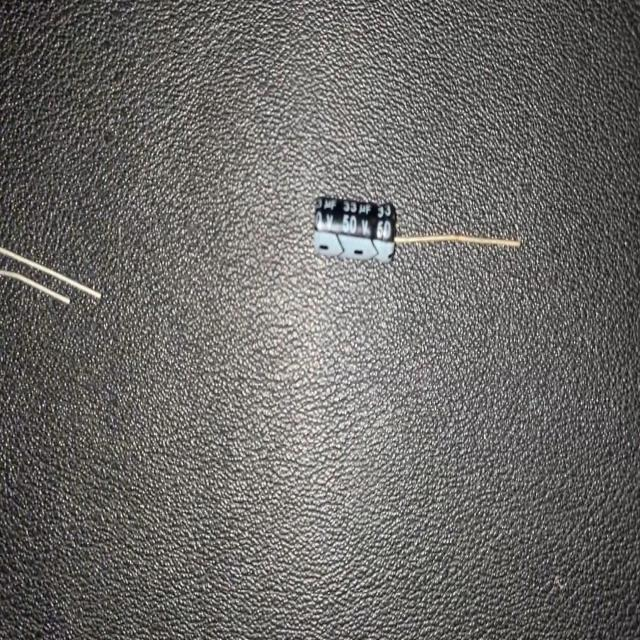missing-leg: (313, 191, 523, 269)
